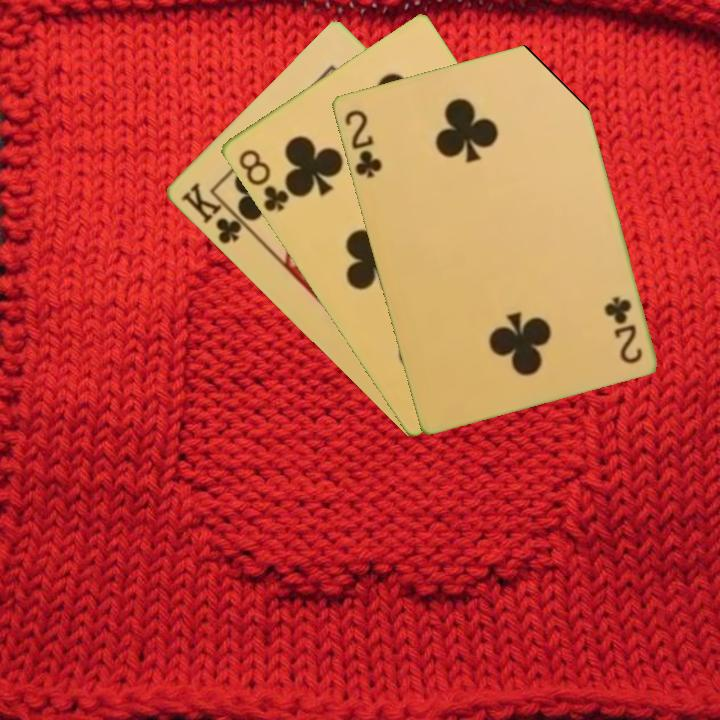2c: (340, 106, 385, 181), (602, 292, 645, 367)
8c: (234, 145, 291, 215)
Kc: (177, 179, 253, 248)
